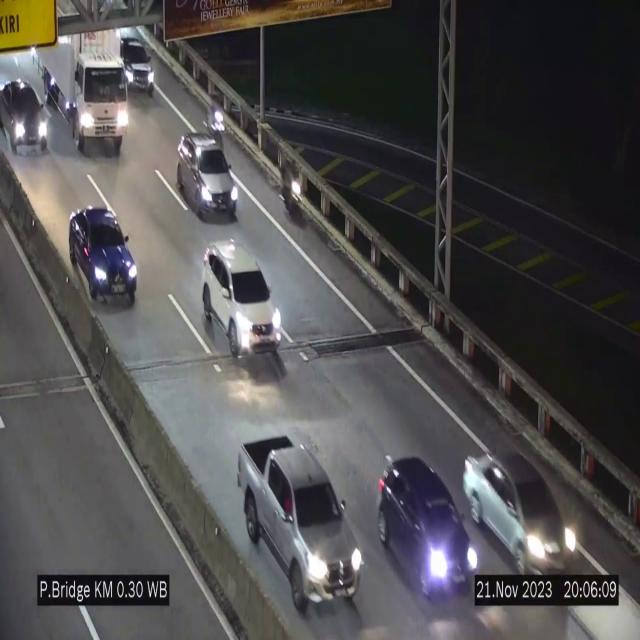Car: (238, 439, 362, 623), (372, 450, 478, 602), (463, 446, 576, 573), (202, 241, 281, 361), (69, 206, 137, 306), (176, 132, 238, 220), (0, 76, 52, 152)
Motorcycle: (278, 152, 304, 224), (207, 96, 230, 155)
